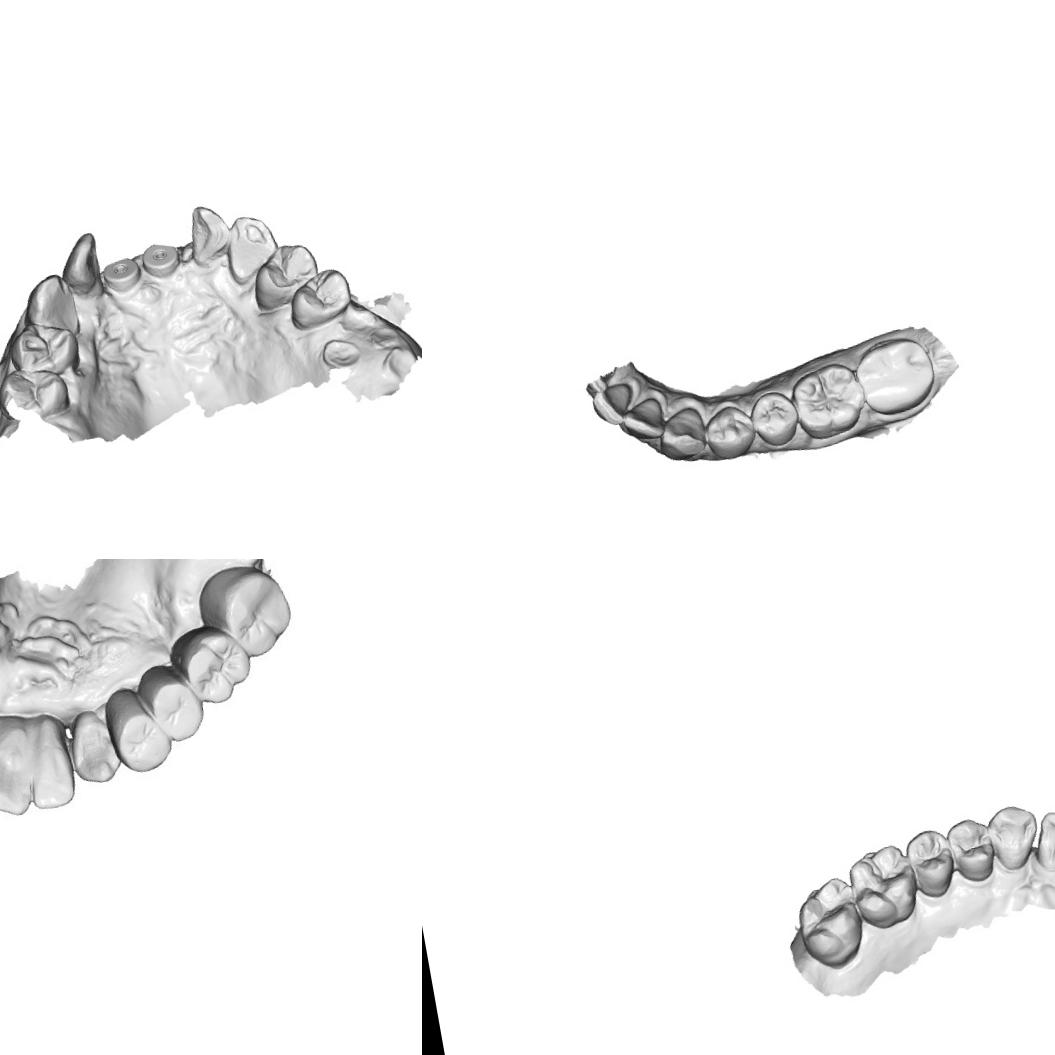canine: (57, 703, 128, 791), (216, 208, 286, 286), (15, 266, 82, 342), (983, 800, 1044, 873), (651, 400, 710, 466)
implant: (136, 235, 182, 280), (98, 253, 144, 295)
incisor: (19, 736, 84, 817), (53, 226, 107, 298), (181, 199, 233, 269), (615, 391, 671, 449), (0, 733, 35, 822), (586, 378, 640, 432), (1028, 805, 1055, 873)
molar: (198, 560, 298, 666), (850, 330, 941, 421), (176, 617, 261, 710), (790, 872, 869, 972), (843, 840, 923, 933), (784, 356, 868, 444)
premolar: (135, 661, 210, 748), (100, 696, 178, 778), (242, 238, 324, 312), (1, 314, 83, 384), (0, 357, 76, 430), (280, 262, 358, 333), (902, 825, 958, 901), (698, 398, 762, 464), (942, 814, 999, 886), (744, 386, 804, 452)
